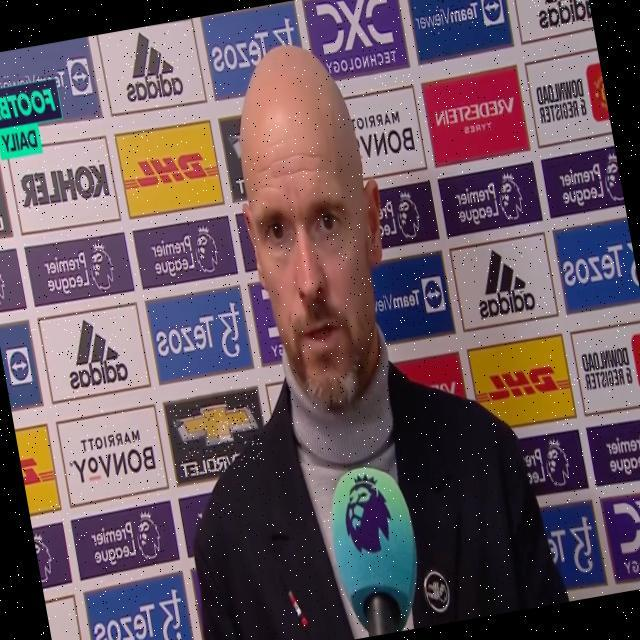Adidas: (59, 312, 130, 393), (467, 242, 537, 322), (116, 25, 185, 105), (526, 0, 591, 29)
Chevrolet: (170, 395, 265, 479)
Kohler: (17, 159, 110, 212)
TeamViewer: (0, 56, 91, 109), (410, 0, 504, 38)
